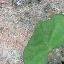Morning glory: (4, 6, 64, 64)
